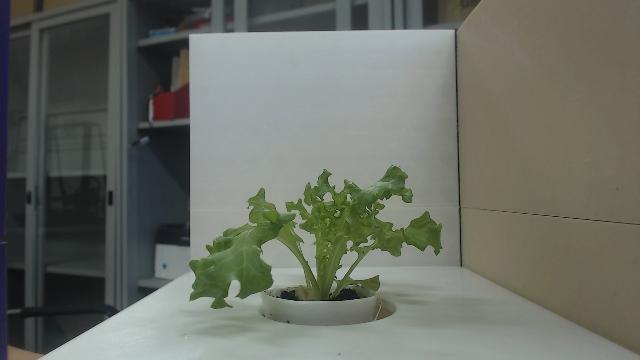Vegetative Stage: (188, 164, 444, 310)
